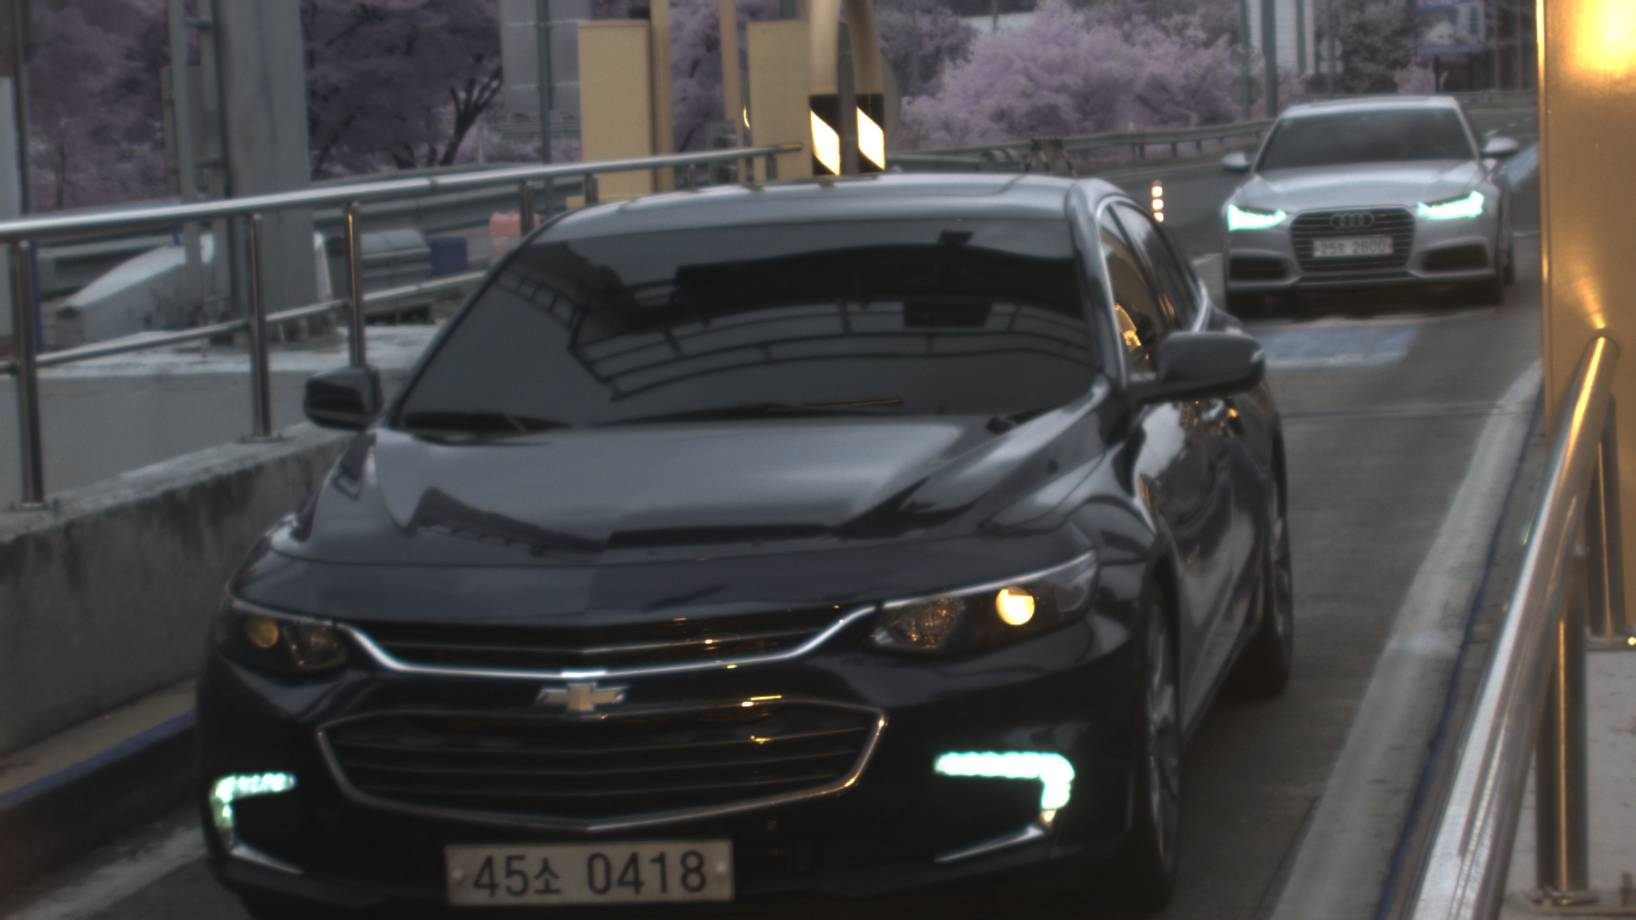car: (191, 164, 1299, 920), (1216, 93, 1525, 318)
plate: (440, 840, 735, 908), (1308, 232, 1398, 260)
